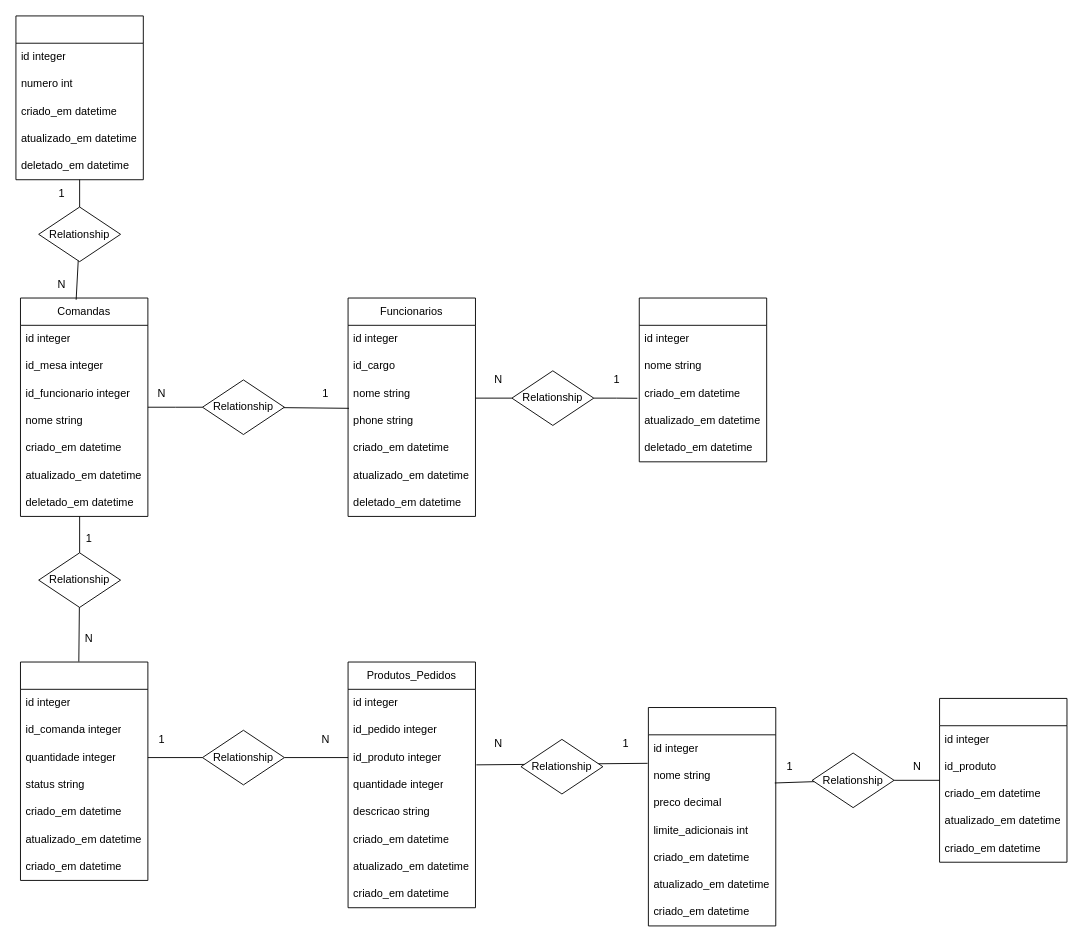
The diagram is 1083 pixels wide and 942 high, and some of its shapes have lost their labels. Here are the shapes that lost their labels. From the top down, the box of each, then its label:
(15, 15, 143, 180): Mesas
(638, 297, 767, 462): Cargos
(20, 661, 148, 880): Pedidos
(939, 698, 1067, 862): Adicionais
(647, 707, 776, 926): Produtos
